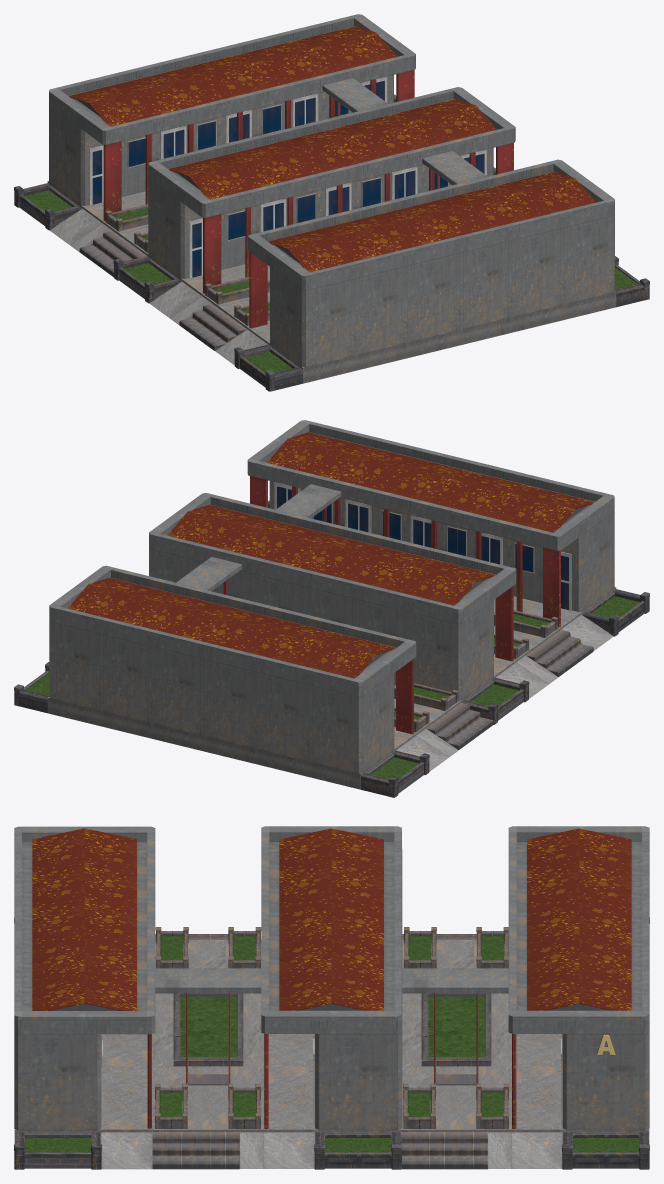
Rendered from toaA.fbx.
3 views of the same model, one above another, from view 1: azimuth 30°, elevation 25°; view 2: azimuth 150°, elevation 25°; view 3: azimuth 270°, elevation 25° (orthographic). The views are drawn at different scales.
Visible parts, largest first — view 1: TOA_A; view 2: TOA_A; view 3: TOA_A.
Boxes of the visible parts, x1,y1,x2,y2 form: TOA_A: (14, 14, 649, 391); TOA_A: (14, 420, 649, 797); TOA_A: (14, 826, 649, 1169).
Size of the model in its own units: 3331 by 931 by 3874.
